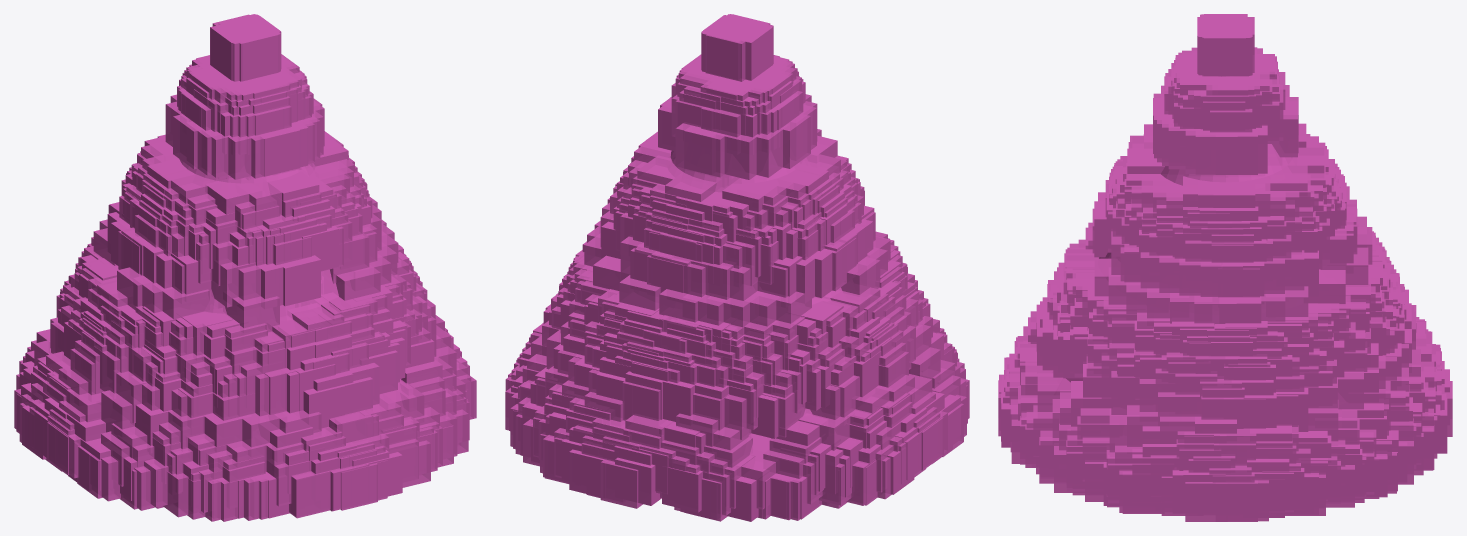
The model's file is MagicStoneDust.fbx.
3 renders of one model, left to right at view 1: azimuth 30°, elevation 25°; view 2: azimuth 150°, elevation 25°; view 3: azimuth 270°, elevation 25°, orthographic.
Visible parts, largest first — view 1: MagicStoneDust, MagicStoneDust|Cube.003|Dupli|1618, MagicStoneDust|Cube.003|Dupli|363, MagicStoneDust|Cube.003|Dupli|486, MagicStoneDust|Cube.003|Dupli|1324, MagicStoneDust|Cube.003|Dupli|1648, MagicStoneDust|Cube.003|Dupli|938, MagicStoneDust|Cube.003|Dupli|781, MagicStoneDust|Cube.003|Dupli|440, MagicStoneDust|Cube.003|Dupli|2, MagicStoneDust|Cube.003|Dupli|1058, MagicStoneDust|Cube.003|Dupli|1666 (+89 smaller); view 2: MagicStoneDust|Cube.003|Dupli|1474, MagicStoneDust|Cube.003|Dupli|1220, MagicStoneDust|Cube.003|Dupli|318, MagicStoneDust, MagicStoneDust|Cube.003|Dupli|257, MagicStoneDust|Cube.003|Dupli|278, MagicStoneDust|Cube.003|Dupli|58, MagicStoneDust|Cube.003|Dupli|240, MagicStoneDust|Cube.003|Dupli|1058, MagicStoneDust|Cube.003|Dupli|434, MagicStoneDust|Cube.003|Dupli|146, MagicStoneDust|Cube.003|Dupli|831 (+75 smaller); view 3: MagicStoneDust|Cube.003|Dupli|174, MagicStoneDust|Cube.003|Dupli|960, MagicStoneDust|Cube.003|Dupli|843, MagicStoneDust|Cube.003|Dupli|1202, MagicStoneDust, MagicStoneDust|Cube.003|Dupli|1286, MagicStoneDust|Cube.003|Dupli|259, MagicStoneDust|Cube.003|Dupli|1354, MagicStoneDust|Cube.003|Dupli|681, MagicStoneDust|Cube.003|Dupli|760, MagicStoneDust|Cube.003|Dupli|937, MagicStoneDust|Cube.003|Dupli|366 (+87 smaller).
Part boxes in pixels (<box>): MagicStoneDust: <box>179,159,401,380</box>; MagicStoneDust|Cube.003|Dupli|1618: <box>289,471,330,517</box>; MagicStoneDust|Cube.003|Dupli|363: <box>280,255,320,306</box>; MagicStoneDust|Cube.003|Dupli|486: <box>260,125,300,176</box>; MagicStoneDust|Cube.003|Dupli|1324: <box>240,23,278,81</box>; MagicStoneDust|Cube.003|Dupli|1648: <box>340,463,377,510</box>; MagicStoneDust|Cube.003|Dupli|938: <box>224,296,279,332</box>; MagicStoneDust|Cube.003|Dupli|781: <box>303,385,344,428</box>; MagicStoneDust|Cube.003|Dupli|440: <box>211,19,265,80</box>; MagicStoneDust|Cube.003|Dupli|2: <box>336,264,380,300</box>; MagicStoneDust|Cube.003|Dupli|1058: <box>173,115,203,169</box>; MagicStoneDust|Cube.003|Dupli|1666: <box>162,288,209,319</box>; MagicStoneDust|Cube.003|Dupli|1474: <box>684,125,726,177</box>; MagicStoneDust|Cube.003|Dupli|1220: <box>705,26,758,81</box>; MagicStoneDust|Cube.003|Dupli|318: <box>600,459,642,508</box>; MagicStoneDust: <box>670,150,842,455</box>; MagicStoneDust|Cube.003|Dupli|257: <box>662,467,703,512</box>; MagicStoneDust|Cube.003|Dupli|278: <box>718,133,760,179</box>; MagicStoneDust|Cube.003|Dupli|58: <box>569,449,604,497</box>; MagicStoneDust|Cube.003|Dupli|240: <box>622,381,660,420</box>; MagicStoneDust|Cube.003|Dupli|1058: <box>783,113,810,168</box>; MagicStoneDust|Cube.003|Dupli|434: <box>754,124,788,177</box>; MagicStoneDust|Cube.003|Dupli|146: <box>660,380,696,421</box>; MagicStoneDust|Cube.003|Dupli|831: <box>647,255,683,293</box>; MagicStoneDust|Cube.003|Dupli|174: <box>1195,129,1237,174</box>; MagicStoneDust|Cube.003|Dupli|960: <box>1204,21,1245,76</box>; MagicStoneDust|Cube.003|Dupli|843: <box>1215,480,1257,521</box>; MagicStoneDust|Cube.003|Dupli|1202: <box>1119,470,1161,512</box>; MagicStoneDust: <box>1065,76,1320,382</box>; MagicStoneDust|Cube.003|Dupli|1286: <box>1185,482,1215,521</box>; MagicStoneDust|Cube.003|Dupli|259: <box>1218,268,1259,297</box>; MagicStoneDust|Cube.003|Dupli|1354: <box>1194,295,1236,324</box>; MagicStoneDust|Cube.003|Dupli|681: <box>1252,472,1293,512</box>; MagicStoneDust|Cube.003|Dupli|760: <box>1201,396,1243,428</box>; MagicStoneDust|Cube.003|Dupli|937: <box>1158,392,1200,426</box>; MagicStoneDust|Cube.003|Dupli|366: <box>1308,270,1345,303</box>.
Size of what is drawn, in the model's own units: 1.07 by 1.05 by 1.08.
